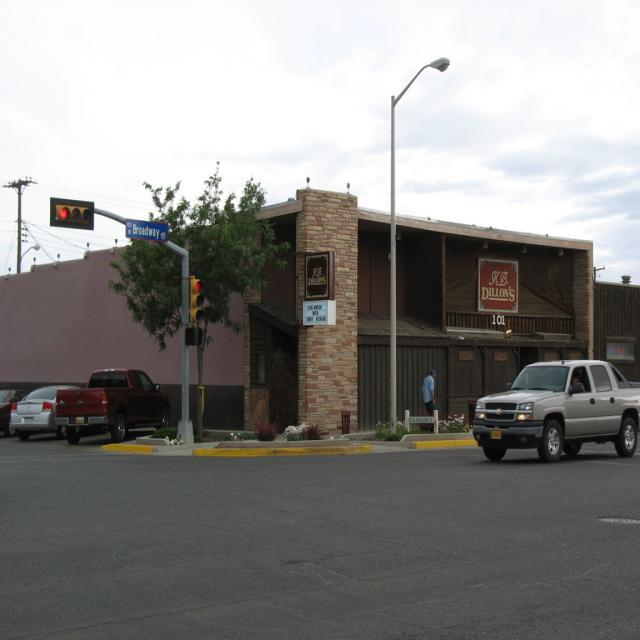traffic light: (50, 195, 95, 232), (191, 279, 203, 322)
